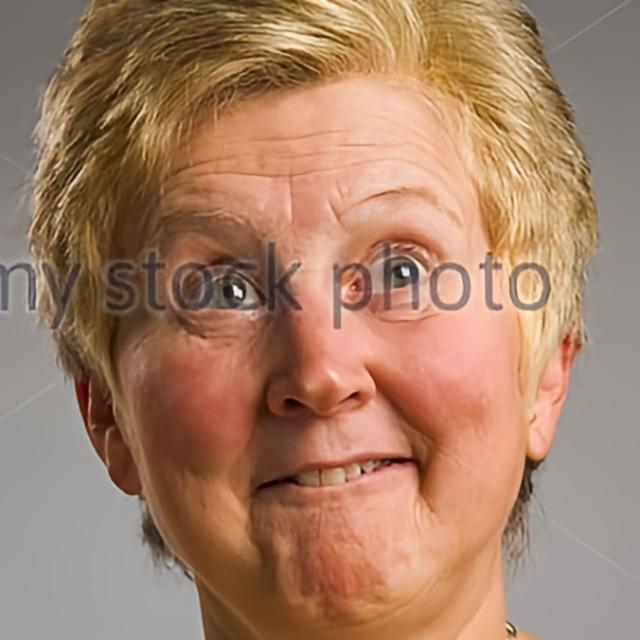surprise: (107, 70, 530, 636)
